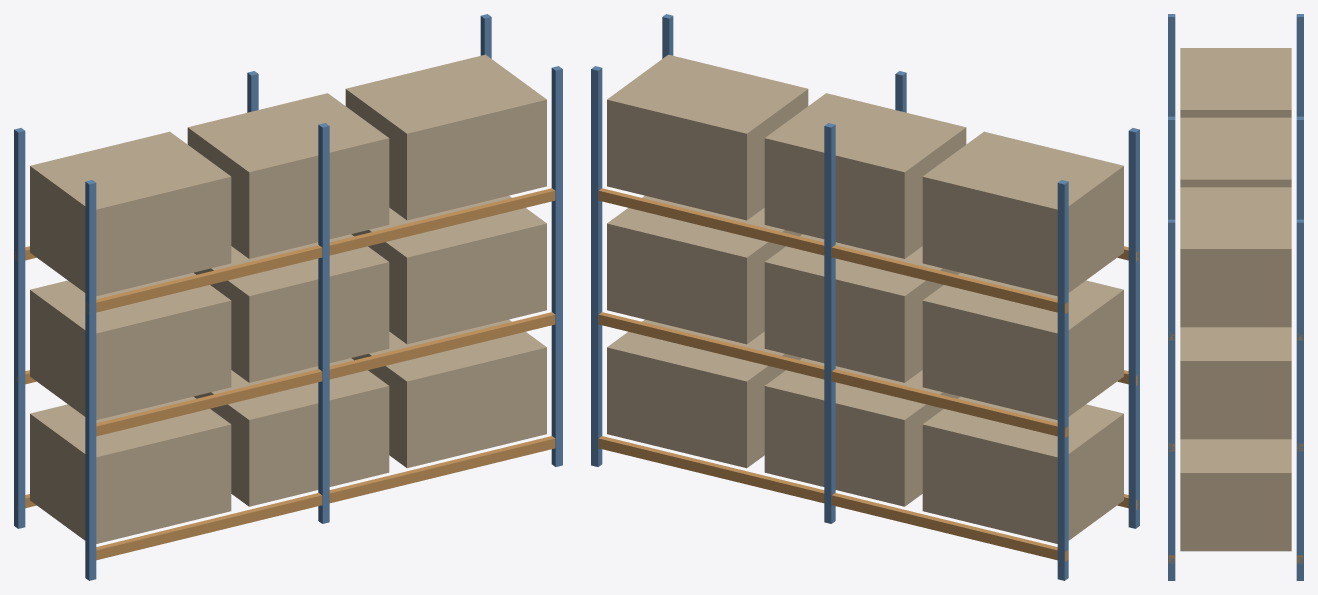
Rendered from 0917-Furniture-interiors-rack.glb.
The picture shows the model from 3 angles, left to right: view 1: azimuth 30°, elevation 25°; view 2: azimuth 150°, elevation 25°; view 3: azimuth 270°, elevation 25°; orthographic projection. The views are drawn at different scales.
Visible parts, largest first — view 1: Furniture (interiors)/rack; view 2: Furniture (interiors)/rack; view 3: Furniture (interiors)/rack.
Part boxes in pixels (box(x1,y1,x2,y2)): Furniture (interiors)/rack: box(14, 14, 562, 580); Furniture (interiors)/rack: box(591, 14, 1139, 580); Furniture (interiors)/rack: box(1168, 14, 1303, 580).
Size of the model in its own units: 4 by 3.2 by 1.1.
